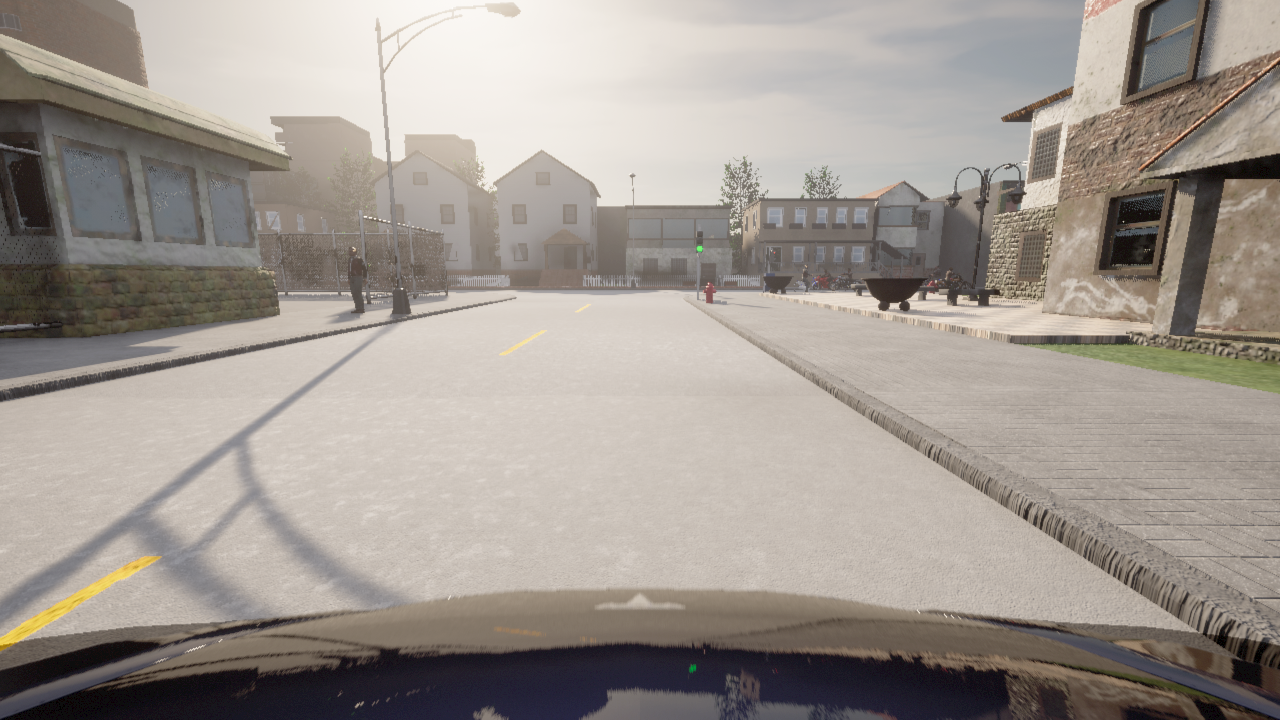cyclist: (0, 588, 1279, 719), (935, 275, 971, 292), (828, 275, 862, 290), (813, 274, 839, 290), (794, 280, 822, 292), (923, 276, 929, 283), (929, 277, 930, 279)
pedestrian: (348, 247, 367, 313)
